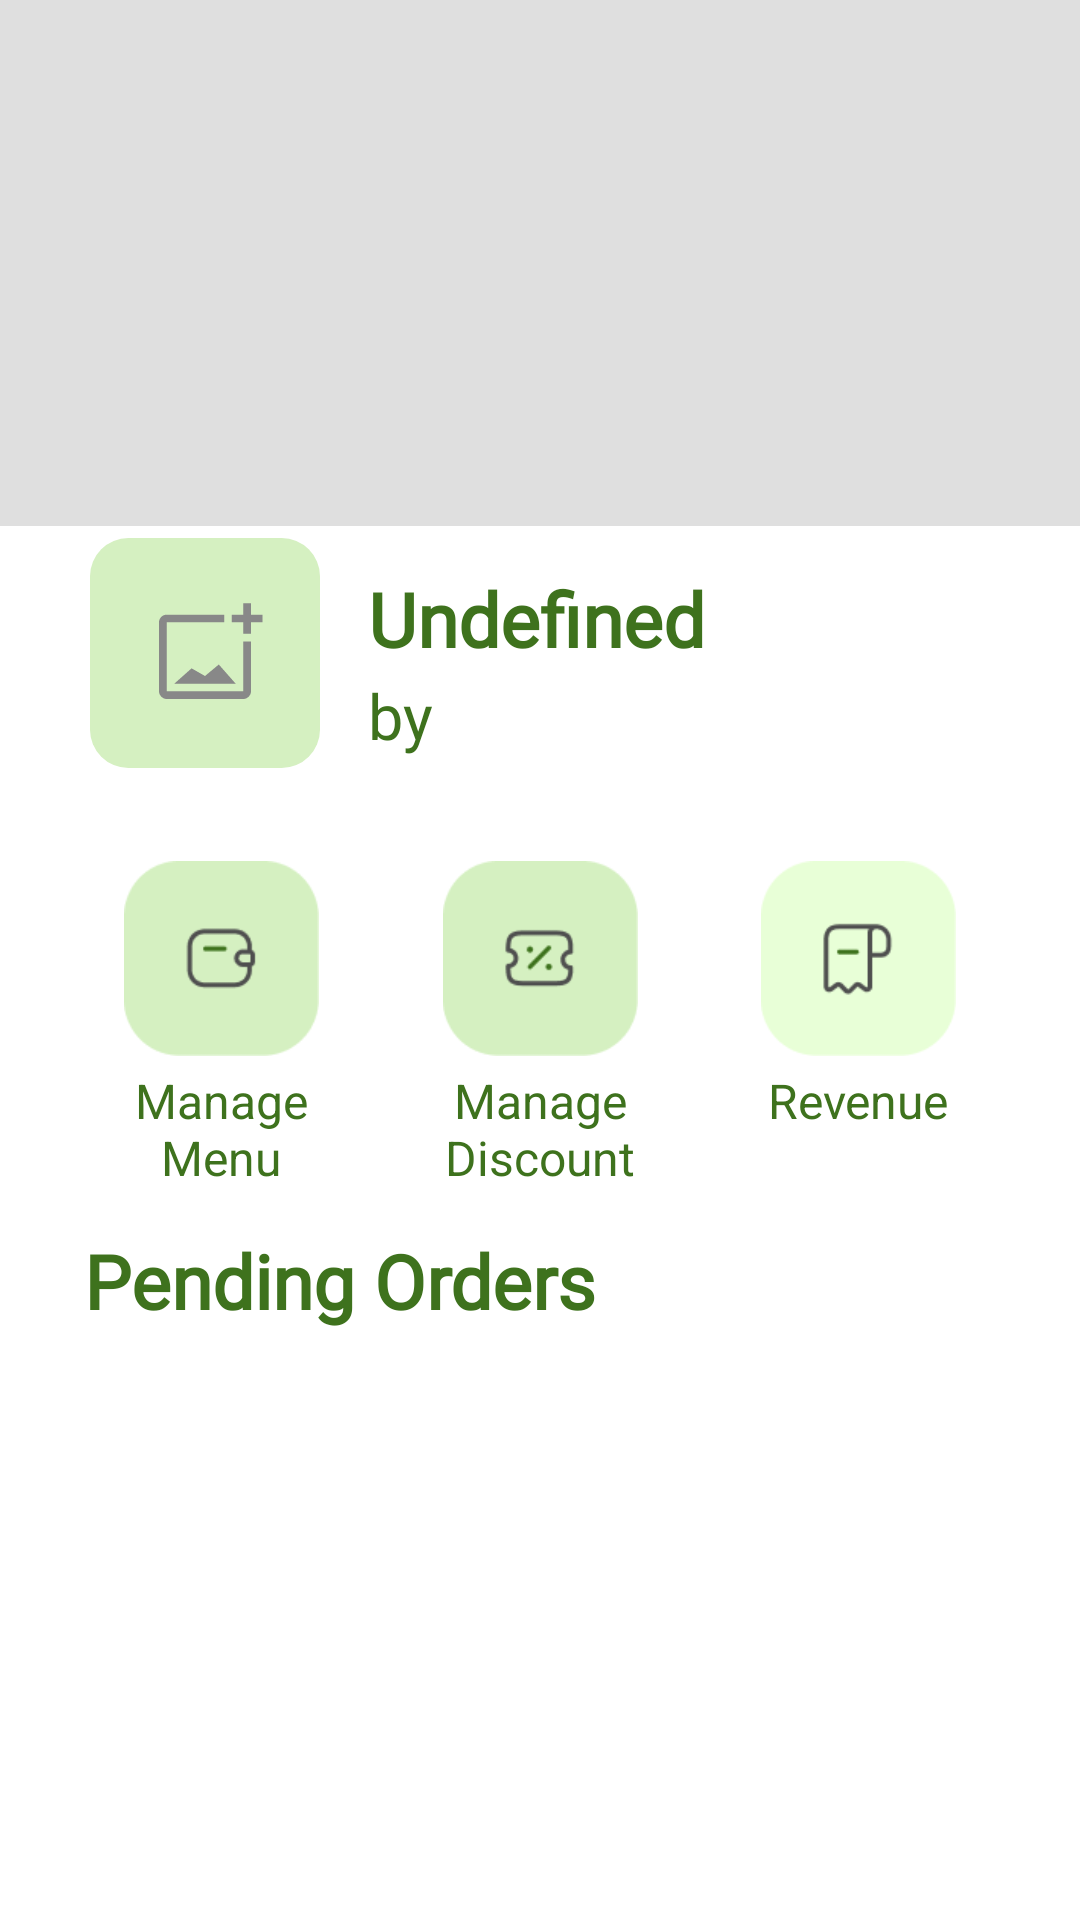

Icon click points for this 1080 x 1920 phone screenshot, format [x,y]:
add: [205,653]
mdiscount: [540,958]
